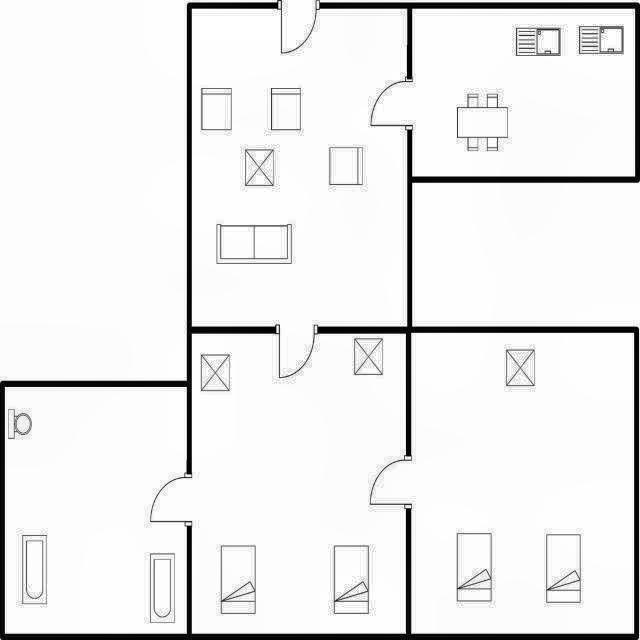room: (192, 9, 407, 327), (414, 332, 633, 635), (192, 333, 406, 634), (5, 387, 187, 634), (412, 9, 635, 177)
